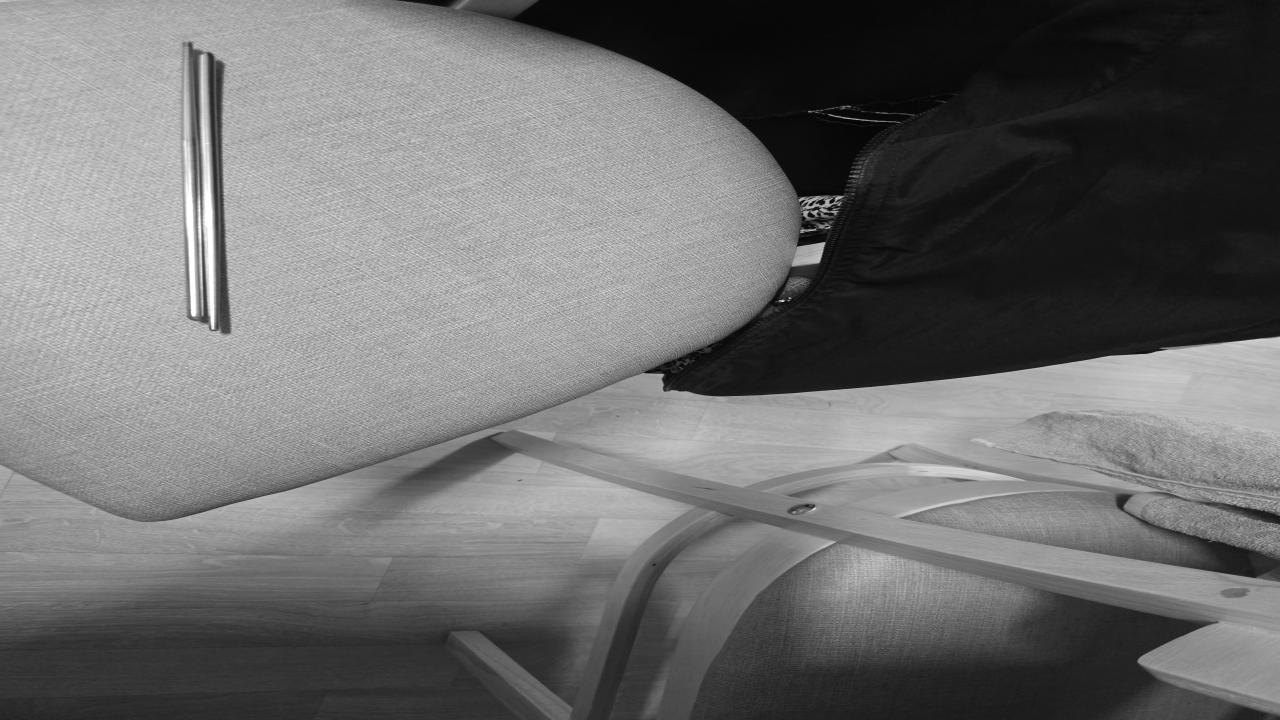chopstick: (167, 41, 230, 336)
